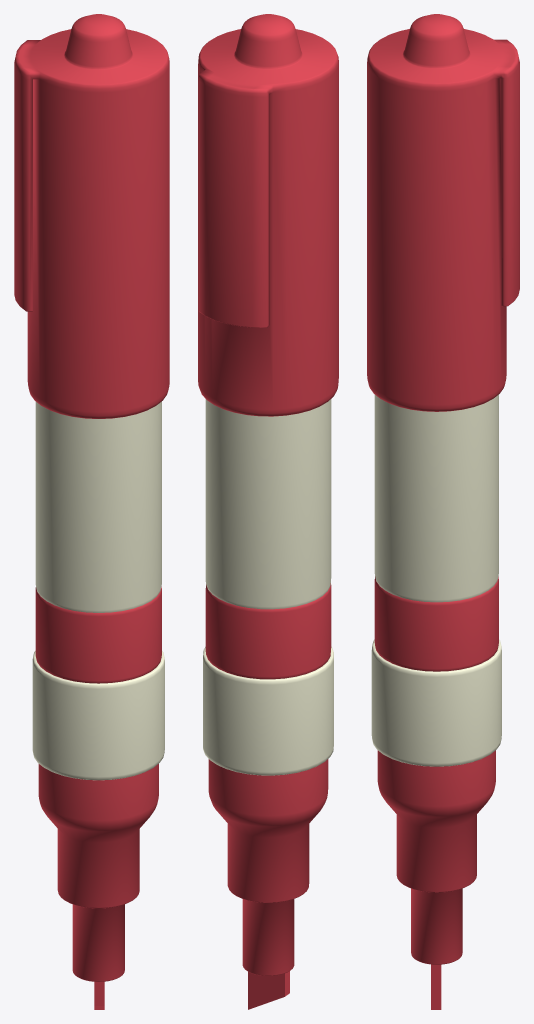
Rendered from Crayon.fbx.
3 renders of one model, left to right at view 1: azimuth 90°, elevation 25°; view 2: azimuth 150°, elevation 25°; view 3: azimuth 270°, elevation 25°, orthographic.
Parts seen in each view (by area): view 1: Crayon, Cylinder.004; view 2: Crayon, Cylinder.004; view 3: Crayon, Cylinder.004.
Part boxes in pixels (box(x1,y1,x2,y2)): Crayon: box(14, 14, 169, 1009); Cylinder.004: box(32, 401, 164, 780); Crayon: box(198, 14, 338, 1009); Cylinder.004: box(203, 399, 333, 775); Crayon: box(367, 14, 519, 1009); Cylinder.004: box(371, 394, 501, 766).
Bounding box in the file's own units: 17.03 × 132 × 18.66.
